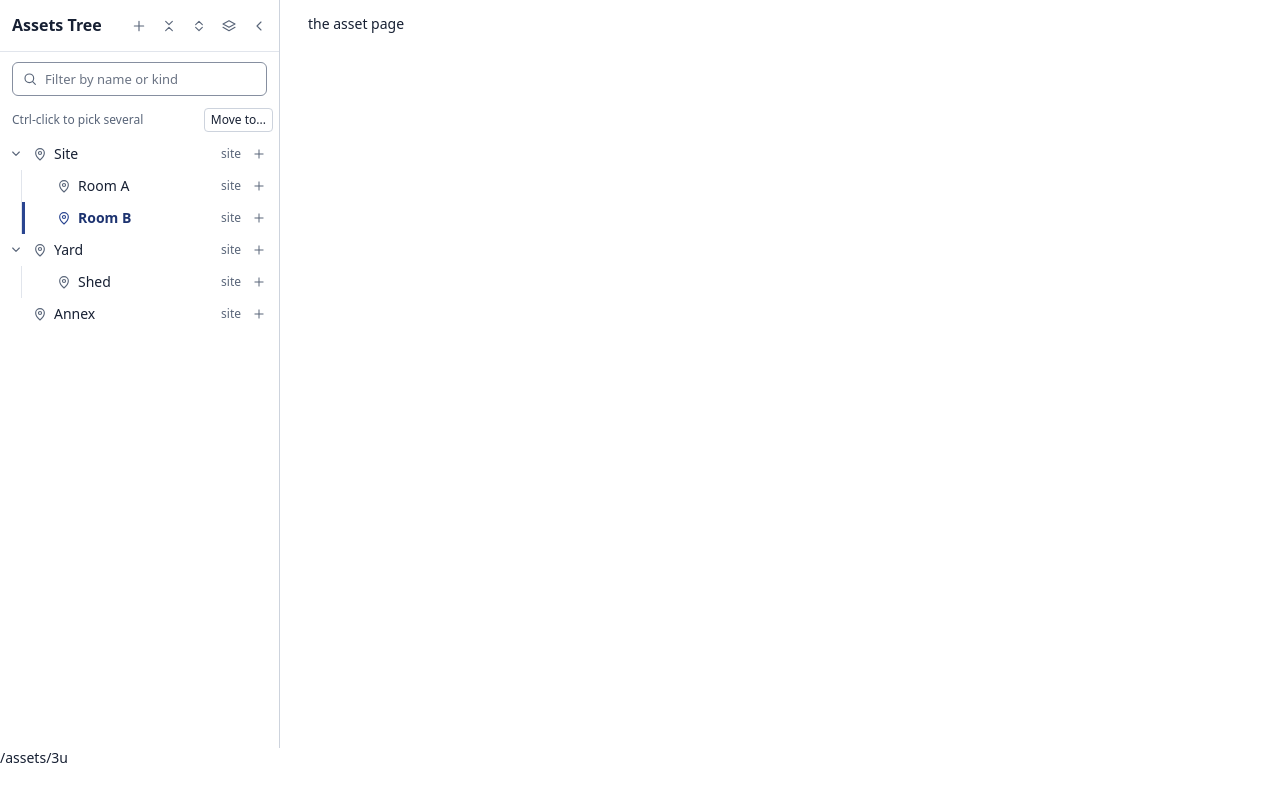
Test case: deleting the picked assets from the pick bar (W7s) › the open asset among the deleted ones: the URL moves to its parent
The image size is (1280, 800).
Expected: the link "Annex" is shown, [54,304,95,323]
Expected: the element named "Selection" is shown, [0,104,279,136]
Step 1. Click the link "Room B" → (105, 218), box [78,208,131,227]
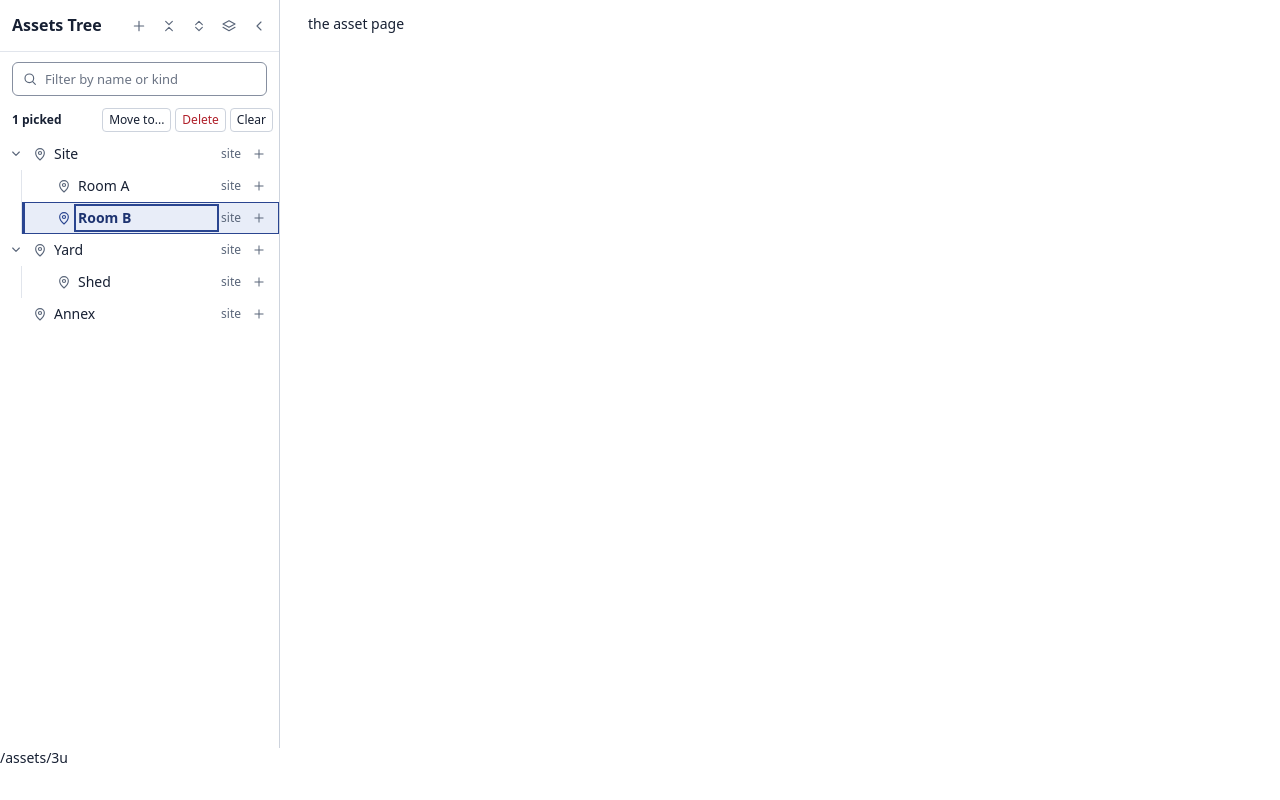
Step 2. Click the link "Annex" → (75, 314), box [54,304,95,323]
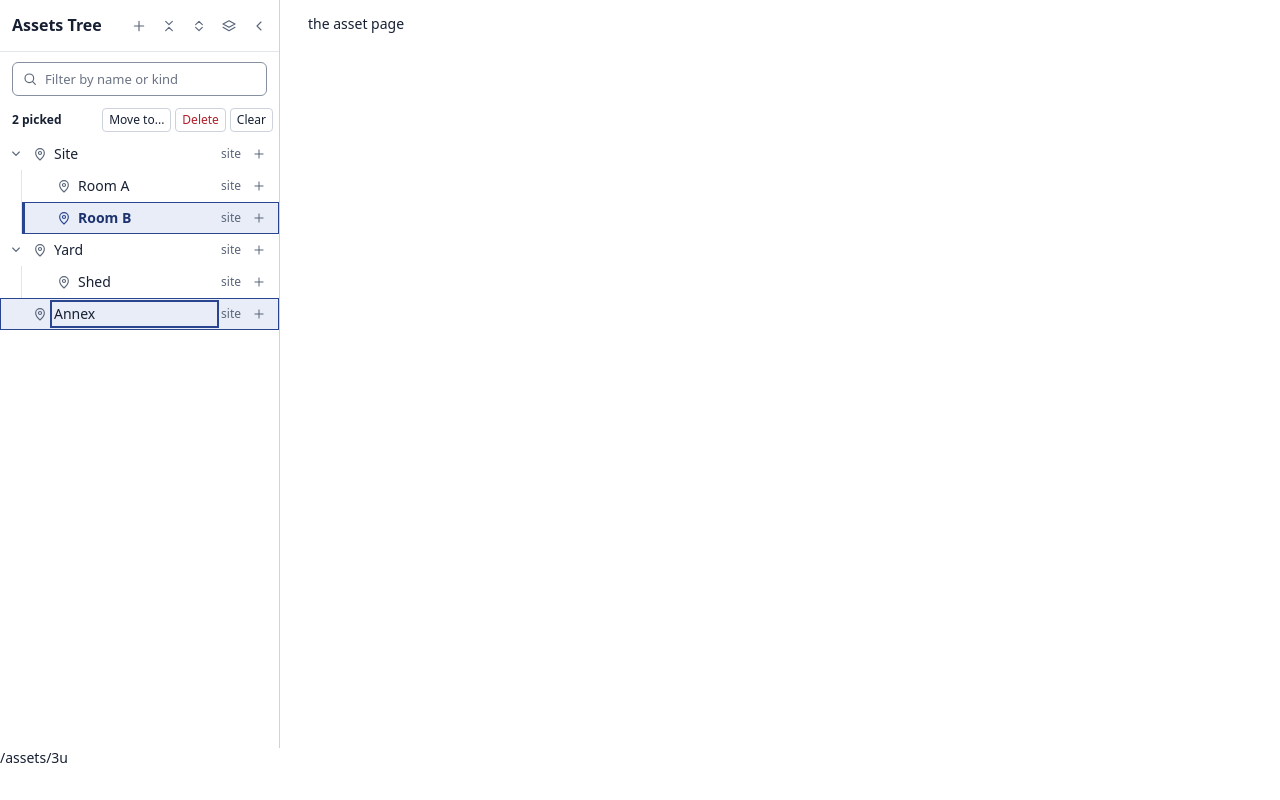
Expected: the text with test id "path" reads "/assets/3", [0,748,59,767]
Result: the element named "Selection" shows "2 picked" at [12,111,62,128]
Step 3. Click the button with aria-label "Delete the 2 picked assets" → (201, 120), box [175,108,226,132]
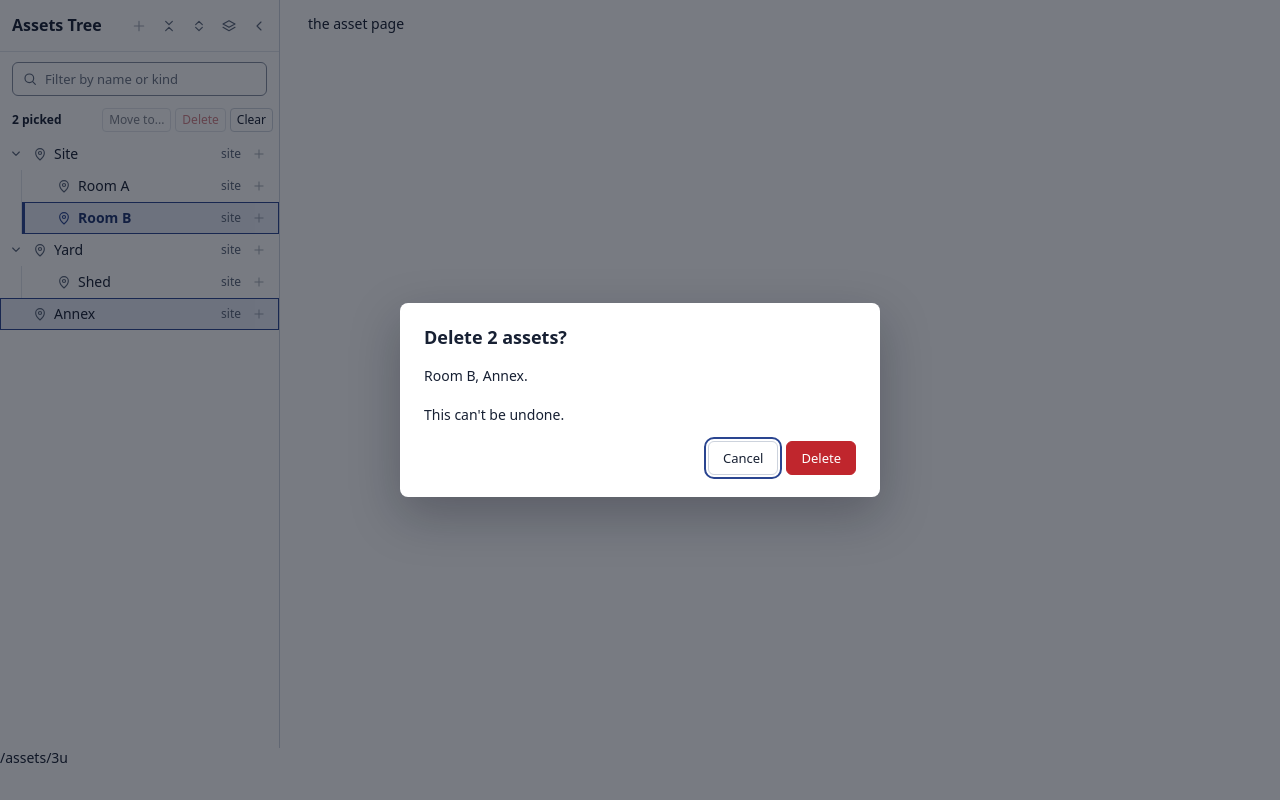
Result: the dialog "Delete 2 assets?" shows "This can't be undone." at [424,366,564,424]
Result: the button "Delete" is enabled
Step 4. Click the button "Delete" → (821, 458), box [786,441,856,475]
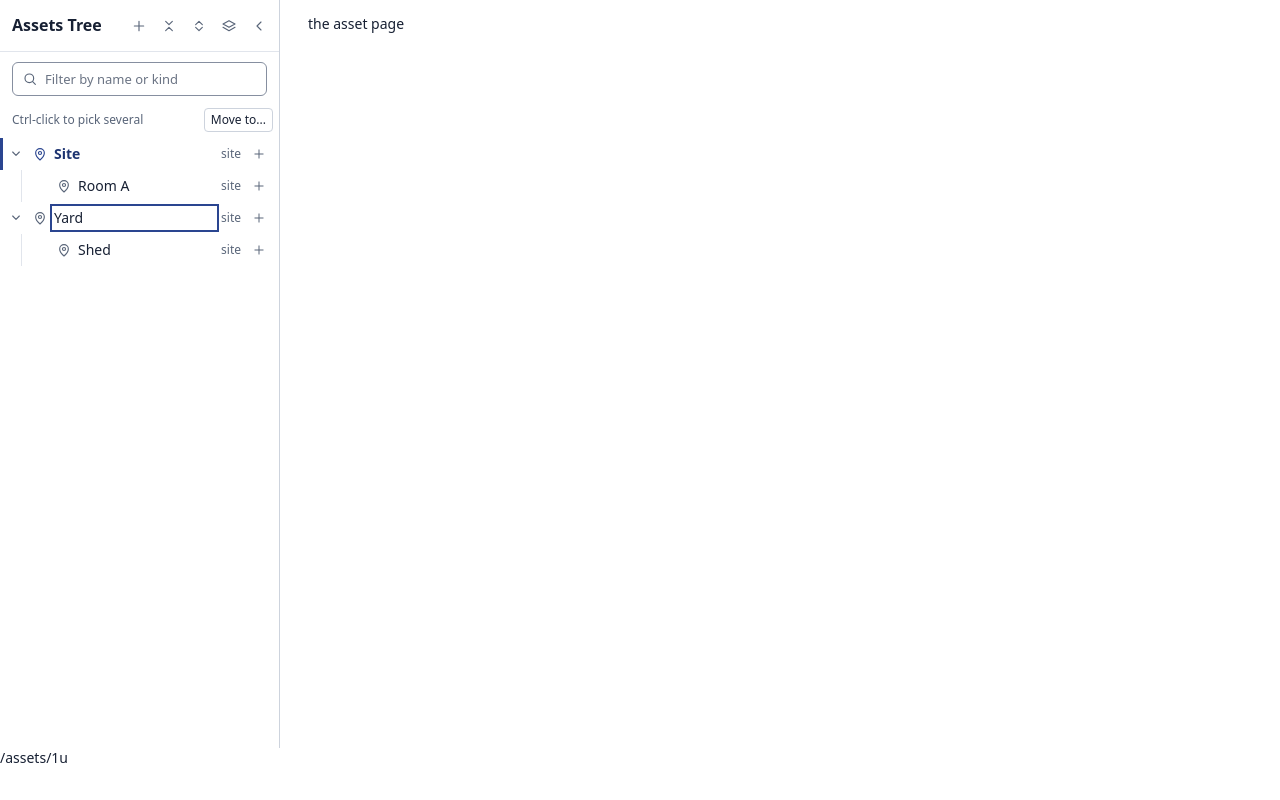
Result: the dialog is gone
Result: the text with test id "path" reads "/assets/1" at [0,748,59,767]
Result: the link "Room B" is gone
